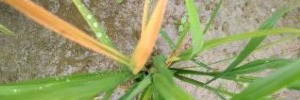RiceTungro: (134, 1, 166, 65), (70, 43, 132, 66)
